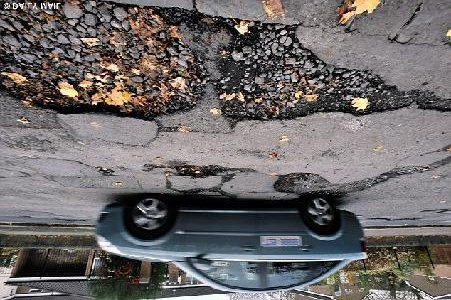pothole: (0, 0, 412, 130), (270, 171, 329, 197), (171, 162, 231, 179)
